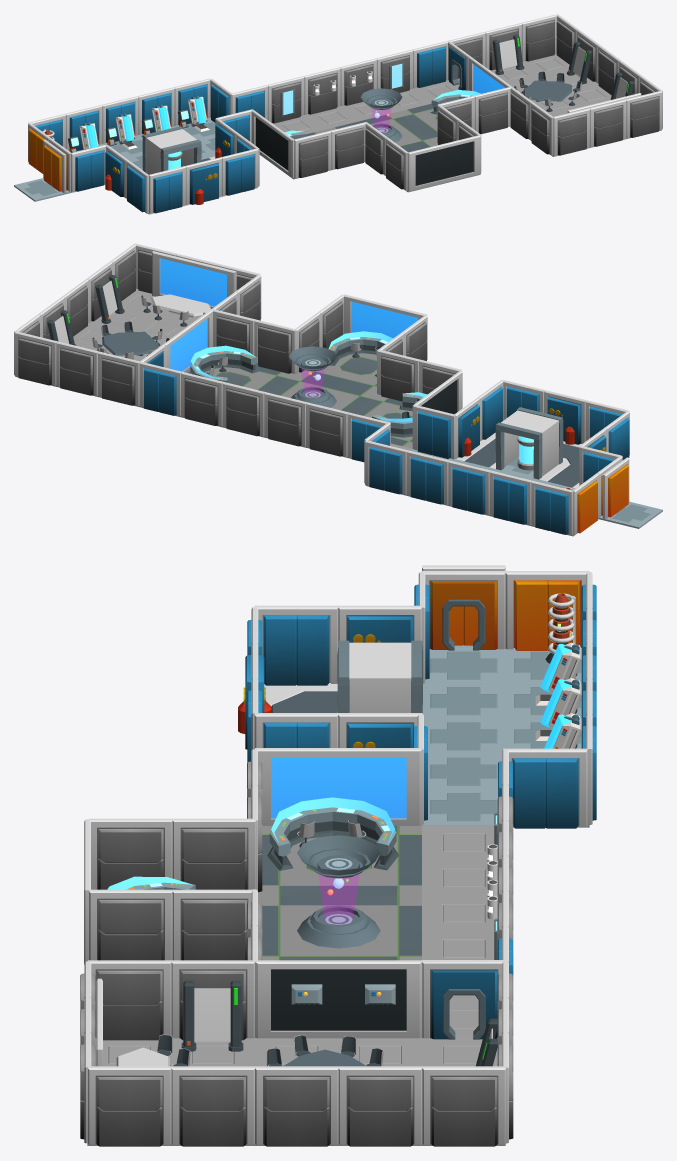
The model's file is Hub.glb.
3 views of the same model, one above another, from view 1: azimuth 30°, elevation 25°; view 2: azimuth 150°, elevation 25°; view 3: azimuth 270°, elevation 25° (orthographic). The views are drawn at different scales.
Parts seen in each view (by area): view 1: Command Wall.002, Corridor Boundary 4x4, Command Wall, Wall Grey, Wall Grey.010, Wall Grey.012, Wall Grey.011, Wall Blue.013, Wall Blue.012, Wall Blue Greeblies.002, Wall Grey.002, Wall Grey.001 (+63 smaller); view 2: Corridor Boundary 4x4, Command Wall.003, Command Wall.002, Wall Grey.018, Wall Grey.022, Wall Blue.003, Wall Blue.004, Wall Blue.006, Wall Blue.009, Wall Grey.024, Wall Grey.021, Wall Grey.023 (+50 smaller); view 3: Command Wall.001, Command Wall, Floor Command Large.001, Wall Grey.017, Wall Grey.015, Wall Grey.013, Wall Grey.014, Wall Grey.016, Orrery, Wall Blue.011, Corridor Boundary 4x4, Wall Blue.007 (+49 smaller).
Boxes of the visible parts, x1,y1,x2,y2 form: Command Wall.002: (407, 135, 480, 191); Corridor Boundary 4x4: (142, 126, 201, 174); Command Wall: (251, 109, 294, 177); Wall Grey: (294, 131, 331, 178); Wall Grey.010: (553, 108, 589, 155); Wall Grey.012: (625, 90, 662, 138); Wall Grey.011: (589, 99, 626, 146); Wall Blue.013: (149, 166, 185, 213); Wall Blue.012: (221, 148, 258, 195); Wall Blue Greeblies.002: (185, 157, 221, 204); Wall Grey.002: (474, 87, 510, 134); Wall Grey.001: (330, 122, 366, 169); Corridor Boundary 4x4: (495, 407, 563, 479); Command Wall.003: (152, 251, 236, 308); Command Wall.002: (343, 294, 427, 338); Wall Grey.018: (14, 331, 56, 385); Wall Grey.022: (222, 382, 264, 436); Wall Blue.003: (406, 450, 448, 504); Wall Blue.004: (489, 470, 531, 525); Wall Blue.006: (531, 480, 573, 535); Wall Blue.009: (413, 404, 455, 459); Wall Grey.024: (306, 402, 348, 456); Wall Grey.021: (264, 392, 306, 446); Wall Grey.023: (181, 372, 223, 426); Command Wall.001: (255, 960, 422, 1038); Command Wall: (255, 748, 422, 825); Floor Command Large.001: (258, 895, 421, 960); Wall Grey.017: (422, 1066, 506, 1146); Wall Grey.015: (338, 1066, 422, 1146); Wall Grey.013: (88, 1066, 171, 1146); Wall Grey.014: (171, 1066, 255, 1146); Wall Grey.016: (255, 1066, 338, 1146); Orrery: (297, 835, 380, 948); Wall Blue.011: (254, 605, 338, 685); Corridor Boundary 4x4: (337, 640, 422, 713); Wall Blue.007: (507, 748, 587, 828).
Bounding box in the file's own units: 120 × 8.5 × 49.29.
Materials: 222 (193 with a texture image).
